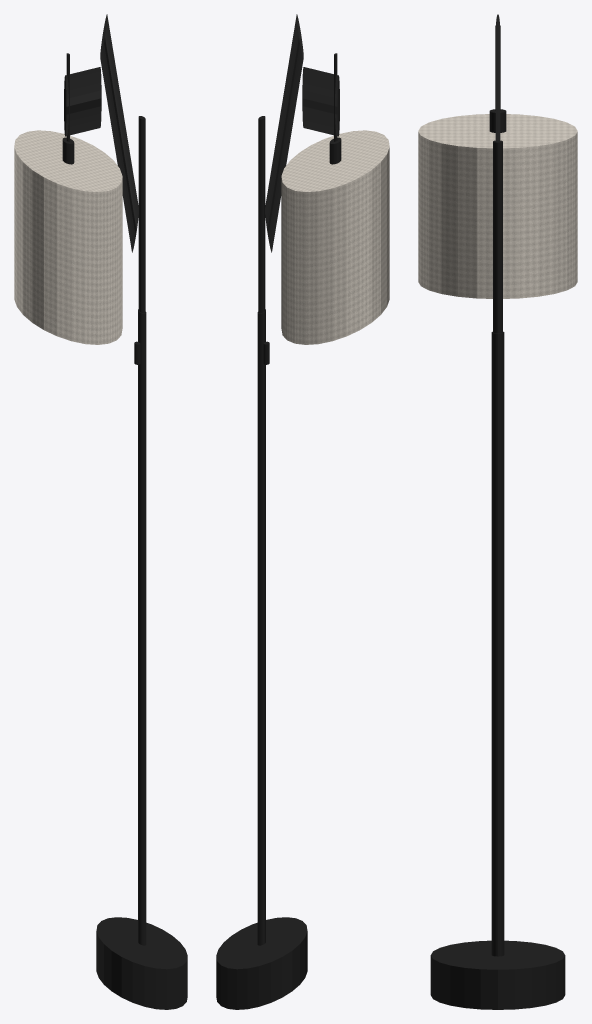
3 renders of one model, left to right at view 1: azimuth 30°, elevation 25°; view 2: azimuth 150°, elevation 25°; view 3: azimuth 270°, elevation 25°, orthographic.
Parts seen in each view (by area): view 1: 9 lampshade, 1 base, 2 lower_pole, 5 angled_arm, 6 top_arm, 4 upper_pole; view 2: 9 lampshade, 1 base, 2 lower_pole, 5 angled_arm, 6 top_arm, 4 upper_pole; view 3: 9 lampshade, 2 lower_pole, 1 base, 4 upper_pole, 5 angled_arm.
Boxes of the visible parts, <box> form: 9 lampshade: <box>14,130,122,344</box>; 1 base: <box>96,917,187,1009</box>; 2 lower_pole: <box>138,309,146,945</box>; 5 angled_arm: <box>100,14,138,252</box>; 6 top_arm: <box>64,67,101,136</box>; 4 upper_pole: <box>138,116,145,313</box>; 9 lampshade: <box>281,130,389,344</box>; 1 base: <box>216,917,307,1009</box>; 2 lower_pole: <box>257,309,265,945</box>; 5 angled_arm: <box>265,14,303,252</box>; 6 top_arm: <box>302,67,339,136</box>; 4 upper_pole: <box>258,116,265,313</box>; 9 lampshade: <box>418,114,577,298</box>; 2 lower_pole: <box>491,331,504,956</box>; 1 base: <box>430,940,565,1009</box>; 4 upper_pole: <box>493,140,502,333</box>; 5 angled_arm: <box>495,14,500,140</box>.
Bounding box in the file's own units: 0.2591 × 1.73 × 0.2591.
4 materials, 1 textured.
